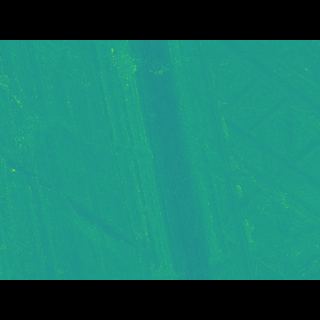Loch: (186, 68, 320, 251), (0, 122, 164, 250)
